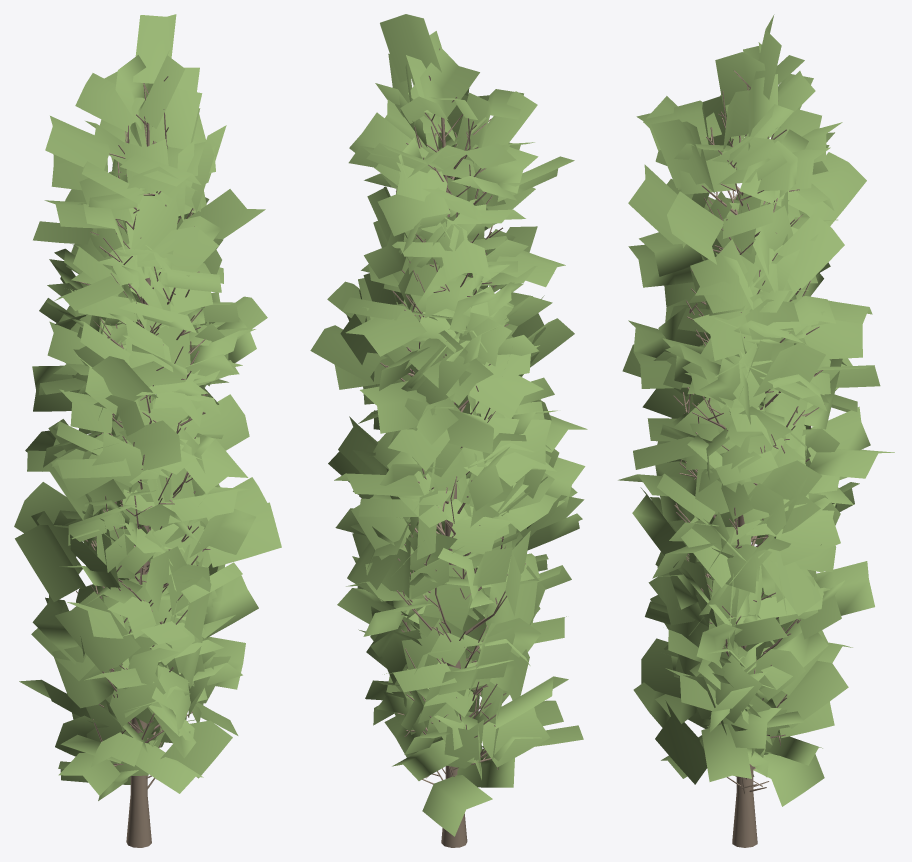
Rendered from Poplar_12_young_lod0.glb.
3 renders of one model, left to right at view 1: azimuth 30°, elevation 25°; view 2: azimuth 150°, elevation 25°; view 3: azimuth 270°, elevation 25°, orthographic. The views are drawn at different scales.
Parts seen in each view (by area): view 1: Poplar_12_young_lod0; view 2: Poplar_12_young_lod0; view 3: Poplar_12_young_lod0.
Boxes of the visible parts, x1,y1,x2,y2 form: Poplar_12_young_lod0: (14, 14, 281, 847); Poplar_12_young_lod0: (310, 14, 587, 847); Poplar_12_young_lod0: (618, 14, 894, 847).
Size of the model in its own units: 3.45 by 12.03 by 3.66.
